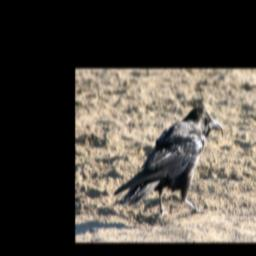Crow: (112, 105, 224, 223)
